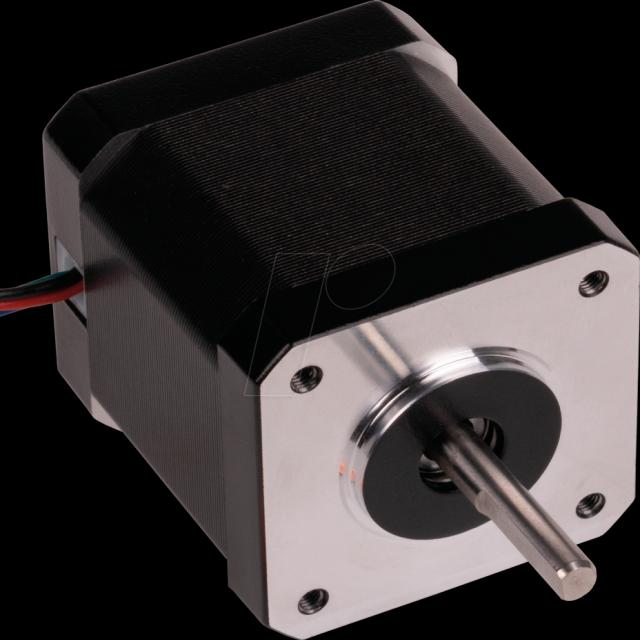motor: (35, 1, 640, 640)
